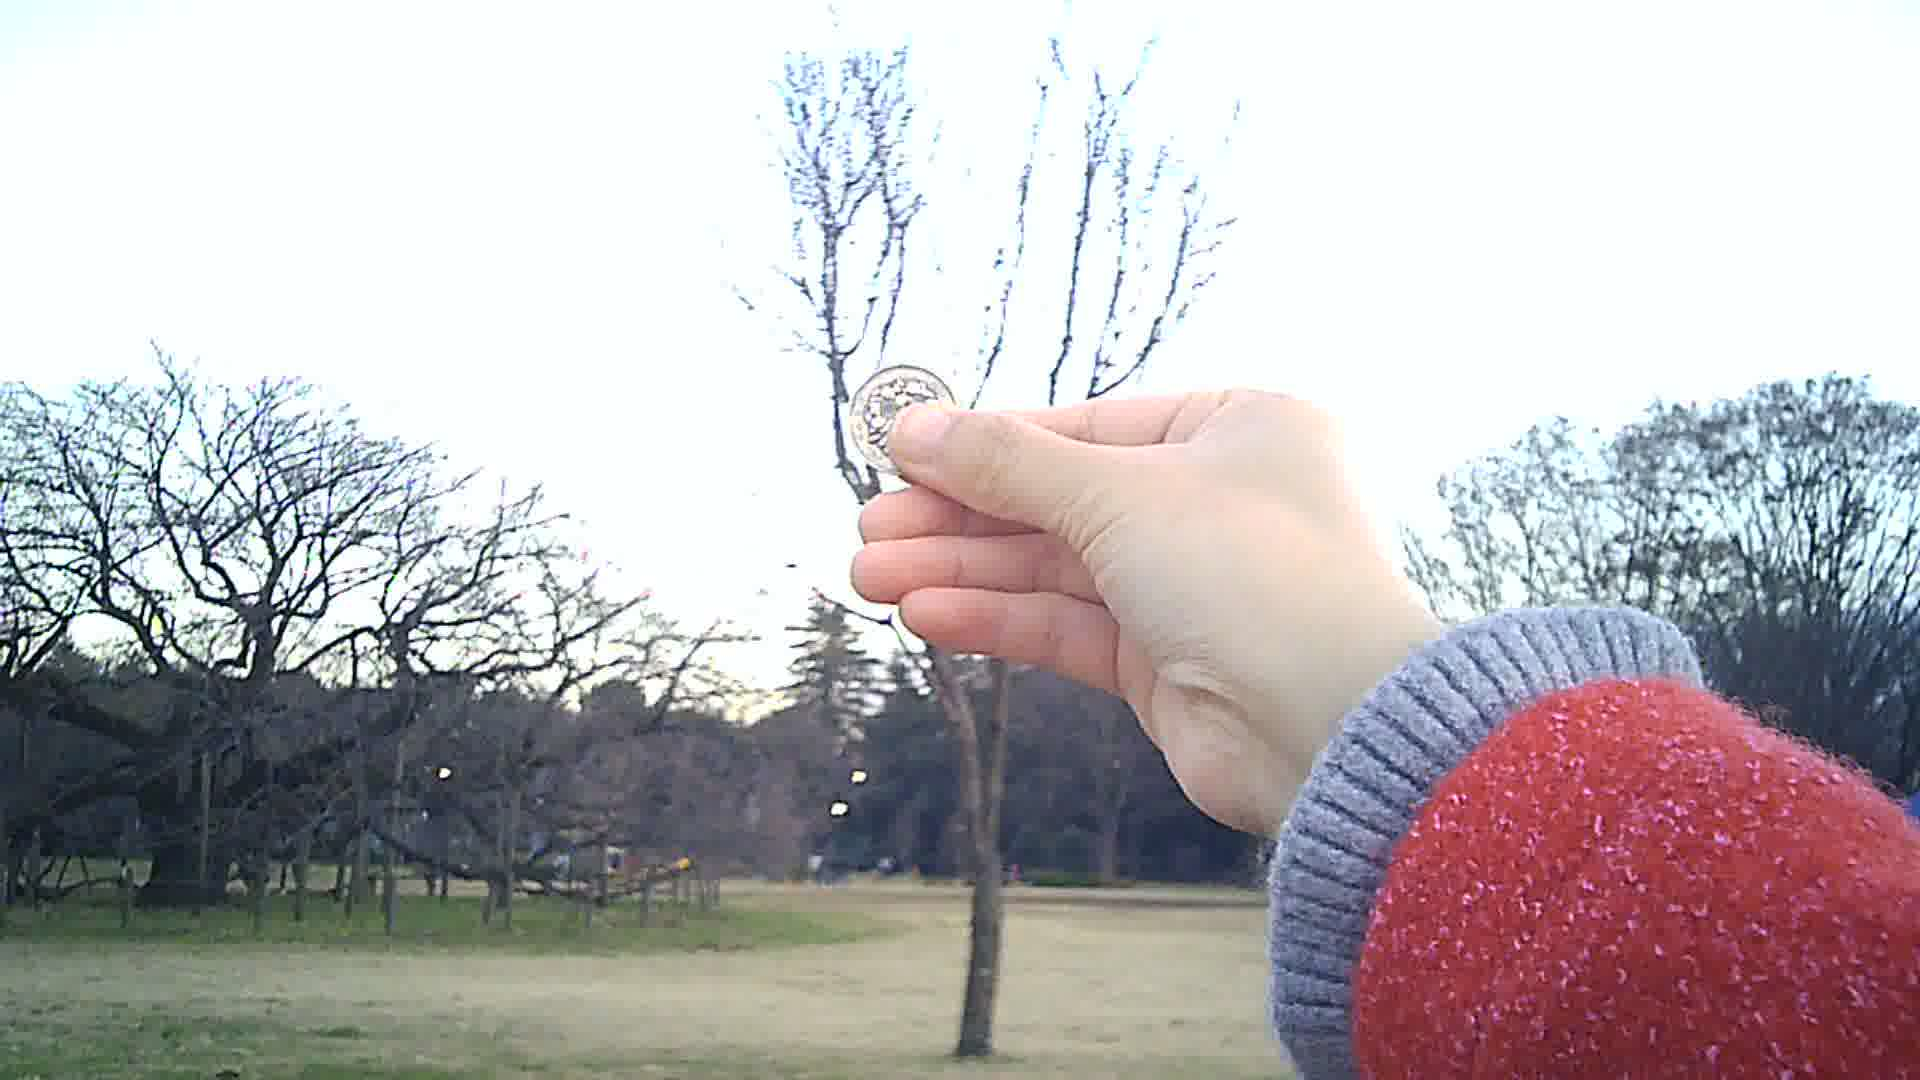100 Yen: (851, 367, 957, 473)
